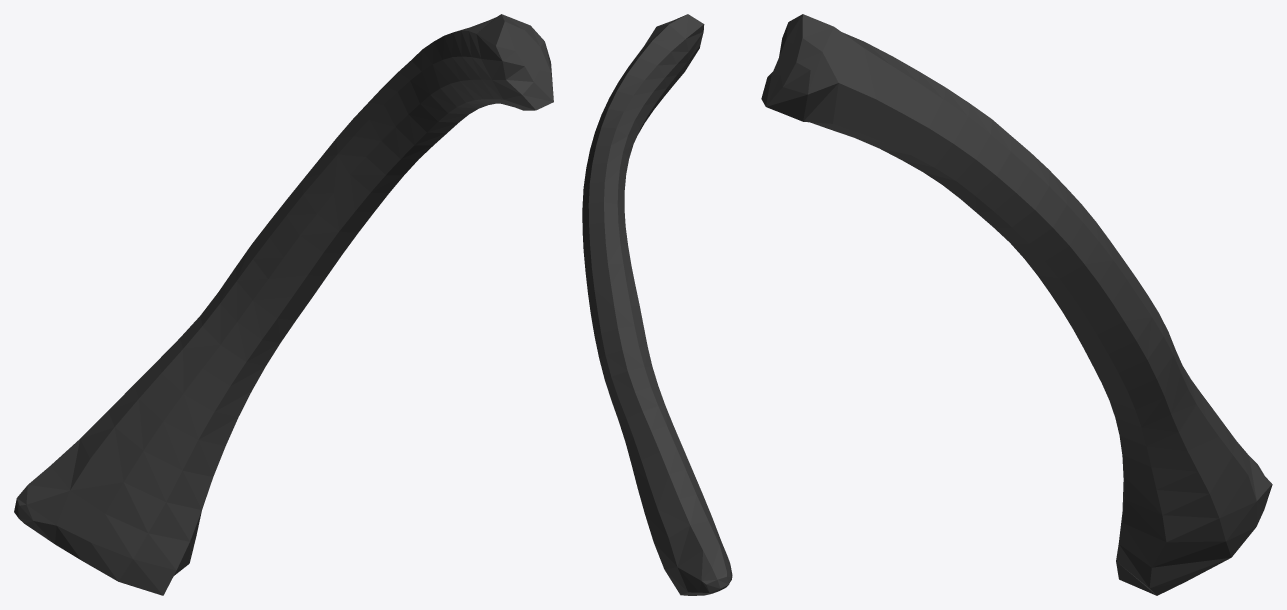
The model's file is Caud_cruc_lig.glb.
3 renders of one model, left to right at view 1: azimuth 30°, elevation 25°; view 2: azimuth 150°, elevation 25°; view 3: azimuth 270°, elevation 25°, orthographic. The views are drawn at different scales.
Parts seen in each view (by area): view 1: Caud_cruc_lig; view 2: Caud_cruc_lig; view 3: Caud_cruc_lig.
Part boxes in pixels (x1=…): Caud_cruc_lig: x1=14, y1=14, x2=553, y2=595; Caud_cruc_lig: x1=582, y1=14, x2=732, y2=595; Caud_cruc_lig: x1=761, y1=14, x2=1272, y2=595.
Bounding box in the file's own units: 33.05 × 63.73 × 44.
1 material, 1 textured.
